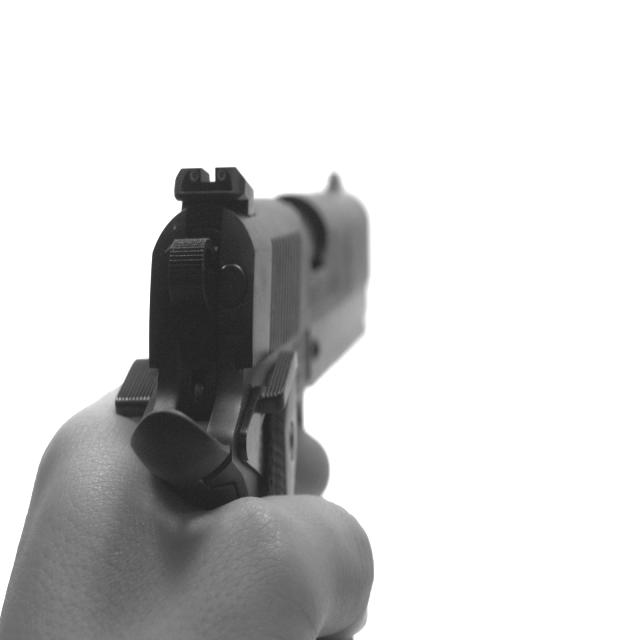pistol: (112, 170, 379, 528)
